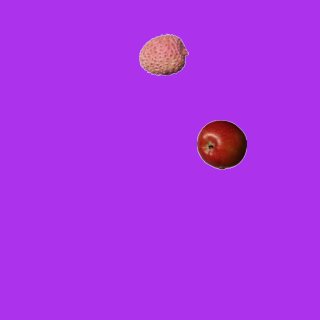Apple Braeburn: (196, 119, 246, 169)
Lychee: (138, 29, 188, 79)
